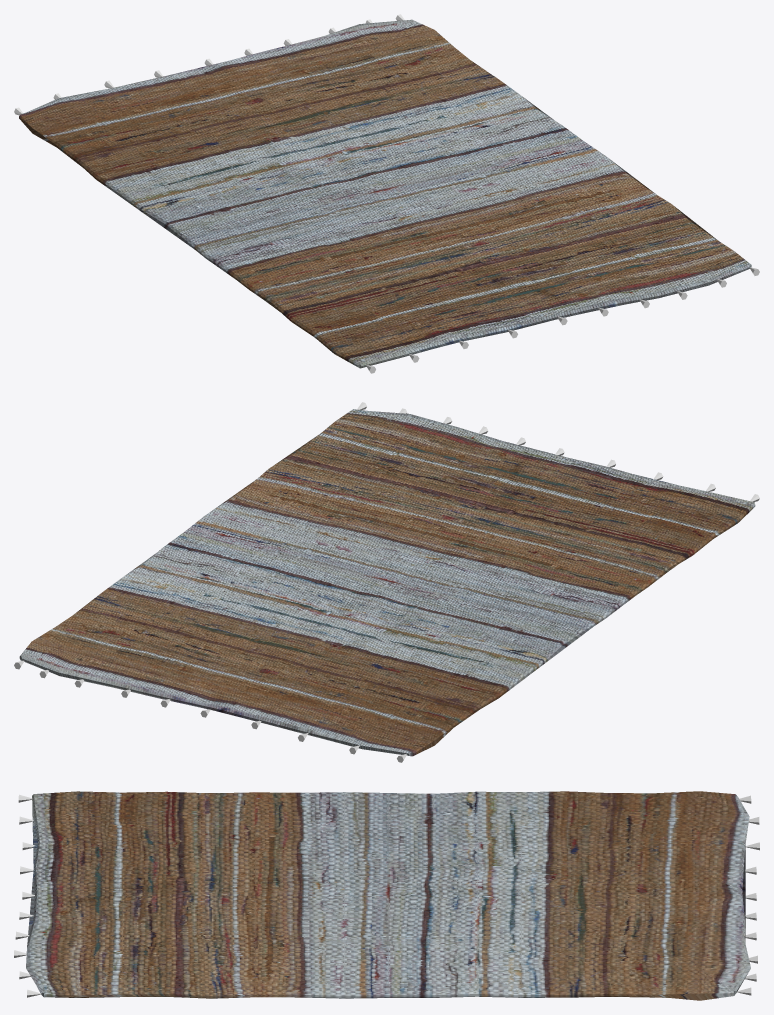
The model's file is carpetsquare.fbx.
3 renders of one model, top to bottom at view 1: azimuth 30°, elevation 25°; view 2: azimuth 150°, elevation 25°; view 3: azimuth 270°, elevation 25°, orthographic. The views are drawn at different scales.
Parts seen in each view (by area): view 1: Rug_Rectangle; view 2: Rug_Rectangle; view 3: Rug_Rectangle.
Part boxes in pixels (left/top/right/bottom): Rug_Rectangle: left=14, top=14, right=759, bottom=373; Rug_Rectangle: left=14, top=402, right=759, bottom=762; Rug_Rectangle: left=14, top=791, right=759, bottom=1000.
Size of the model in its own units: 290 by 5.01 by 447.
2 materials, 1 textured.
